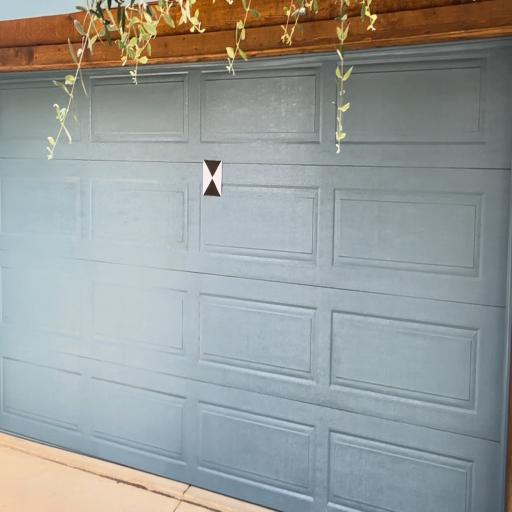target: (203, 160, 222, 196)
